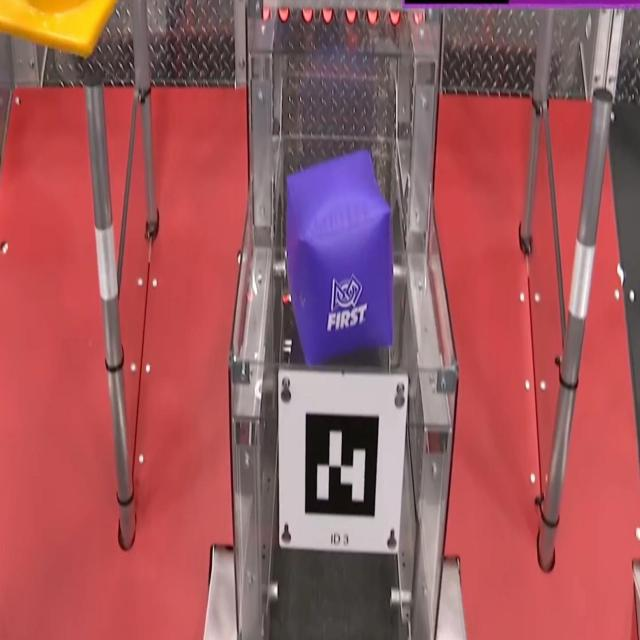frc_cone: (0, 0, 123, 59)
frc_cube: (283, 151, 395, 363)
